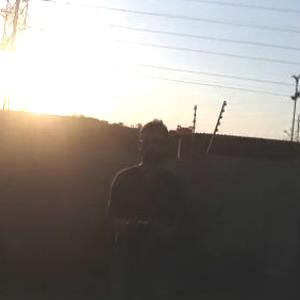follow: (102, 115, 194, 299)
